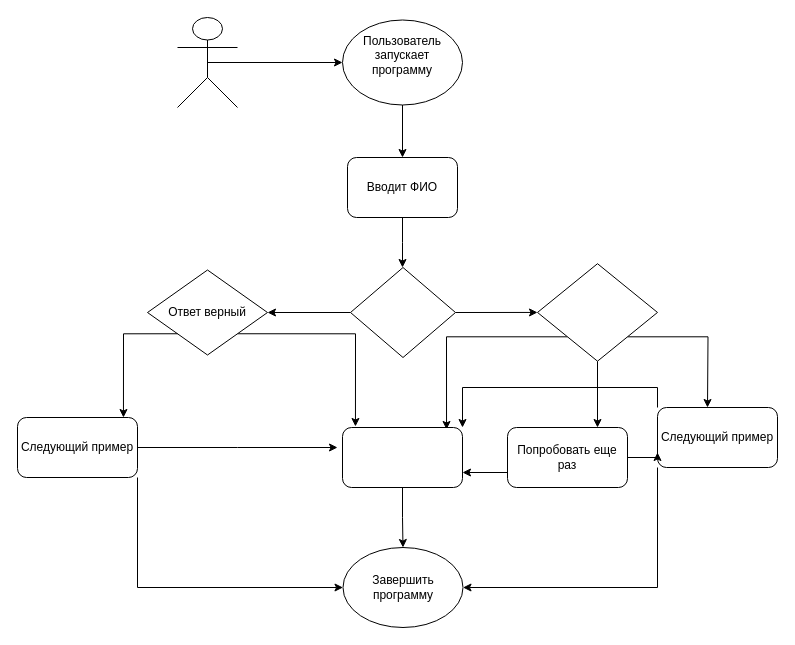
Some shapes in this 795 by 645 pixel diagram are drawn without their labels. Here are the shapes that lost their labels. From the top down, the centre of each, then its label:
At [207,62]: "Actor".
At [403,312]: "Решает пример".
At [597,312]: "Ответ неверный".
At [402,457]: "Посмотреть статистику".
